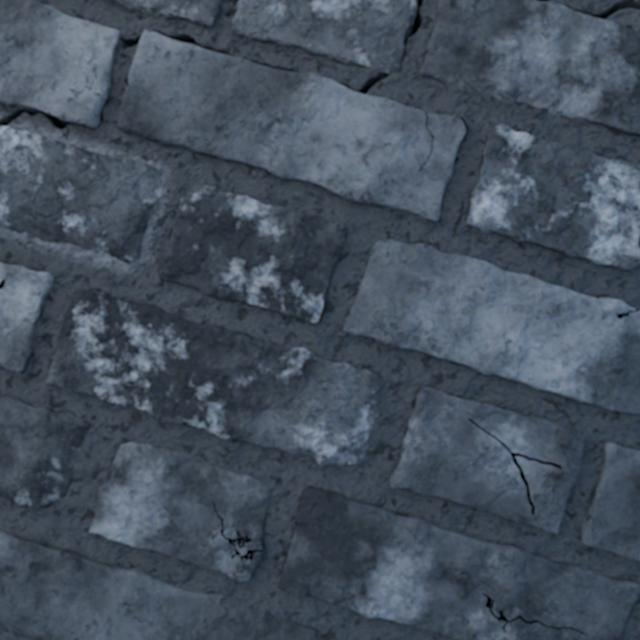brick: (118, 30, 465, 221), (46, 288, 389, 465), (279, 487, 639, 639), (343, 240, 639, 414), (0, 530, 317, 639), (420, 0, 639, 136), (389, 386, 584, 533), (158, 183, 344, 322), (466, 124, 639, 270), (89, 443, 269, 581), (0, 0, 120, 128), (232, 0, 415, 73), (0, 394, 89, 507), (582, 442, 639, 560), (0, 263, 52, 372), (115, 0, 220, 26)
broken_brick: (0, 126, 163, 265)
crack: (212, 501, 264, 563), (157, 32, 231, 56), (0, 107, 72, 129), (571, 1, 639, 20), (402, 0, 423, 56), (417, 111, 434, 172), (344, 71, 389, 94), (247, 59, 293, 72), (615, 308, 638, 319), (118, 37, 140, 47), (460, 117, 467, 130), (0, 278, 5, 289), (99, 112, 103, 120), (533, 0, 546, 2)
